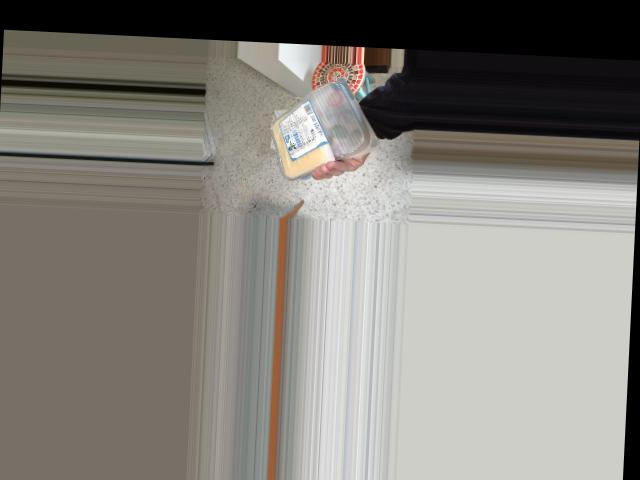cheese: (258, 72, 369, 171)
